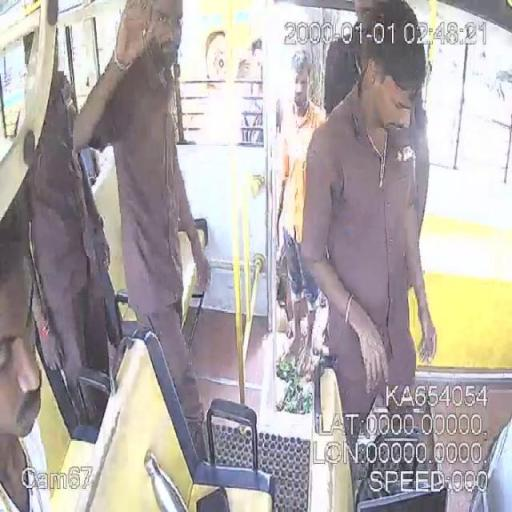persona: (298, 0, 440, 508), (70, 0, 212, 456), (273, 50, 329, 399), (0, 221, 67, 511)
